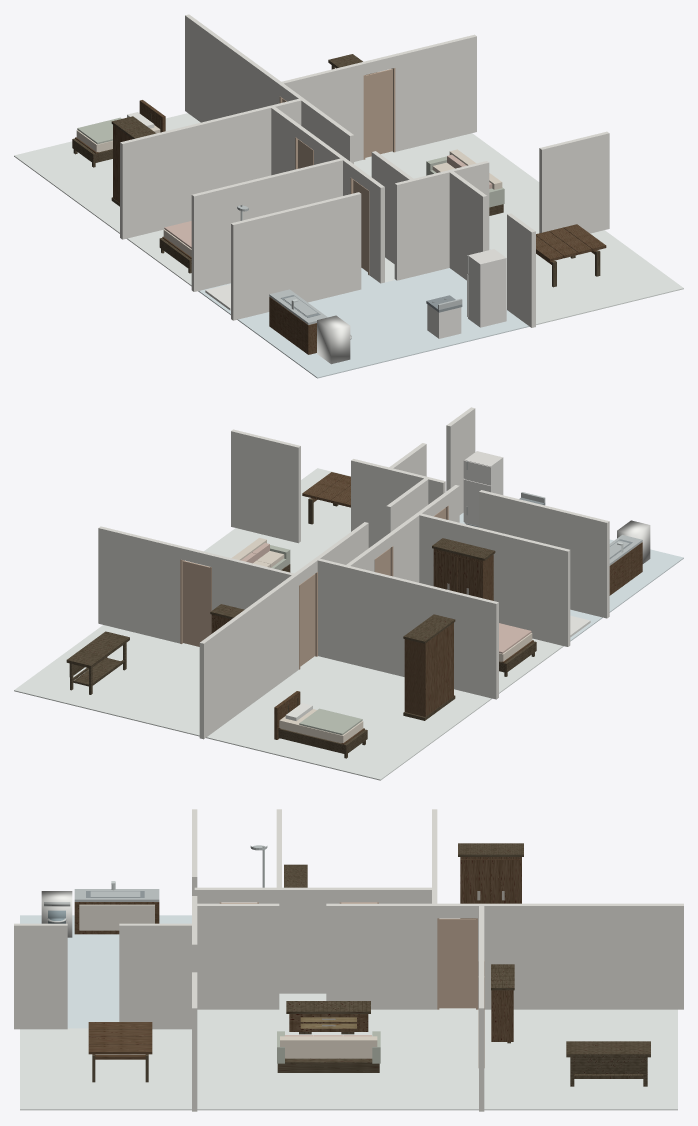
3 views of the same model, one above another, from view 1: azimuth 30°, elevation 25°; view 2: azimuth 150°, elevation 25°; view 3: azimuth 270°, elevation 25° (orthographic). The views are drawn at different scales.
Parts seen in each view (by area): view 1: H13_WALL_10, H13_WALL_04, H13_FLOOR_03_COZINHA_SERVICO, H13_WALL_14, H13_WALL_00, H13_FLOOR_02_JANTAR, H13_WALL_05, H13_WALL_03, H13_WALL_02, H13_FLOOR_01_SALA, H13_FLOOR_04_QUARTO_2, H13_WALL_01 (+18 smaller); view 2: H13_WALL_10, H13_FLOOR_04_QUARTO_2, H13_FLOOR_00_ESTUDO_REVERSIVEL, H13_WALL_05, H13_WALL_14, H13_WALL_00, H13_WALL_04, H13_WALL_02, H13_WALL_03, H13_FURN_10_wardrobe__06__corpo, H13_WALL_01, H13_FLOOR_02_JANTAR (+24 smaller); view 3: H13_FLOOR_01_SALA, H13_WALL_05, H13_FLOOR_00_ESTUDO_REVERSIVEL, H13_FLOOR_02_JANTAR, H13_WALL_06, H13_WALL_07, H13_WALL_08, H13_WALL_09, H13_WALL_12, H13_FLOOR_03_COZINHA_SERVICO, H13_DOOR_01_LEAF, H13_FURN_02_sofa_3p__10__encosto (+28 smaller).
Boxes of the visible parts, box(x1,y1,x2,y2) form: H13_WALL_10: box(120, 98, 302, 239); H13_WALL_04: box(231, 192, 361, 320); H13_FLOOR_03_COZINHA_SERVICO: box(237, 268, 529, 378); H13_WALL_14: box(191, 158, 343, 291); H13_WALL_00: box(392, 34, 476, 151); H13_FLOOR_02_JANTAR: box(501, 230, 683, 324); H13_WALL_05: box(185, 14, 284, 122); H13_WALL_03: box(394, 161, 489, 280); H13_WALL_02: box(539, 131, 609, 233); H13_FLOOR_01_SALA: box(354, 133, 539, 253); H13_FLOOR_04_QUARTO_2: box(14, 113, 200, 233); H13_WALL_01: box(279, 62, 364, 161); H13_WALL_10: box(316, 558, 498, 699); H13_FLOOR_04_QUARTO_2: box(206, 656, 491, 780); H13_FLOOR_00_ESTUDO_REVERSIVEL: box(14, 625, 199, 736); H13_WALL_05: box(199, 573, 299, 739); H13_WALL_14: box(417, 513, 570, 646); H13_WALL_00: box(98, 526, 182, 643); H13_WALL_04: box(479, 490, 609, 618); H13_WALL_02: box(231, 429, 300, 543); H13_WALL_03: box(351, 459, 445, 547); H13_FURN_10_wardrobe__06__corpo: box(404, 623, 453, 716); H13_WALL_01: box(211, 554, 295, 610); H13_FLOOR_02_JANTAR: box(300, 468, 350, 548); H13_FLOOR_01_SALA: box(197, 1008, 478, 1110); H13_WALL_05: box(477, 903, 683, 1009); H13_FLOOR_00_ESTUDO_REVERSIVEL: box(484, 1009, 677, 1110); H13_FLOOR_02_JANTAR: box(20, 1028, 191, 1110); H13_WALL_06: box(326, 903, 438, 1009); H13_WALL_07: box(197, 903, 279, 1009); H13_WALL_08: box(119, 923, 191, 1029); H13_WALL_09: box(14, 923, 67, 1029); H13_WALL_12: box(258, 887, 340, 993); H13_FLOOR_03_COZINHA_SERVICO: box(20, 915, 191, 1028); H13_DOOR_01_LEAF: box(439, 918, 475, 1008); H13_FURN_02_sofa_3p__10__encosto: box(280, 1036, 377, 1058).
Size of the model in its own units: 10.01 by 2.46 by 14.24.
Materials: 21 (3 with a texture image).
